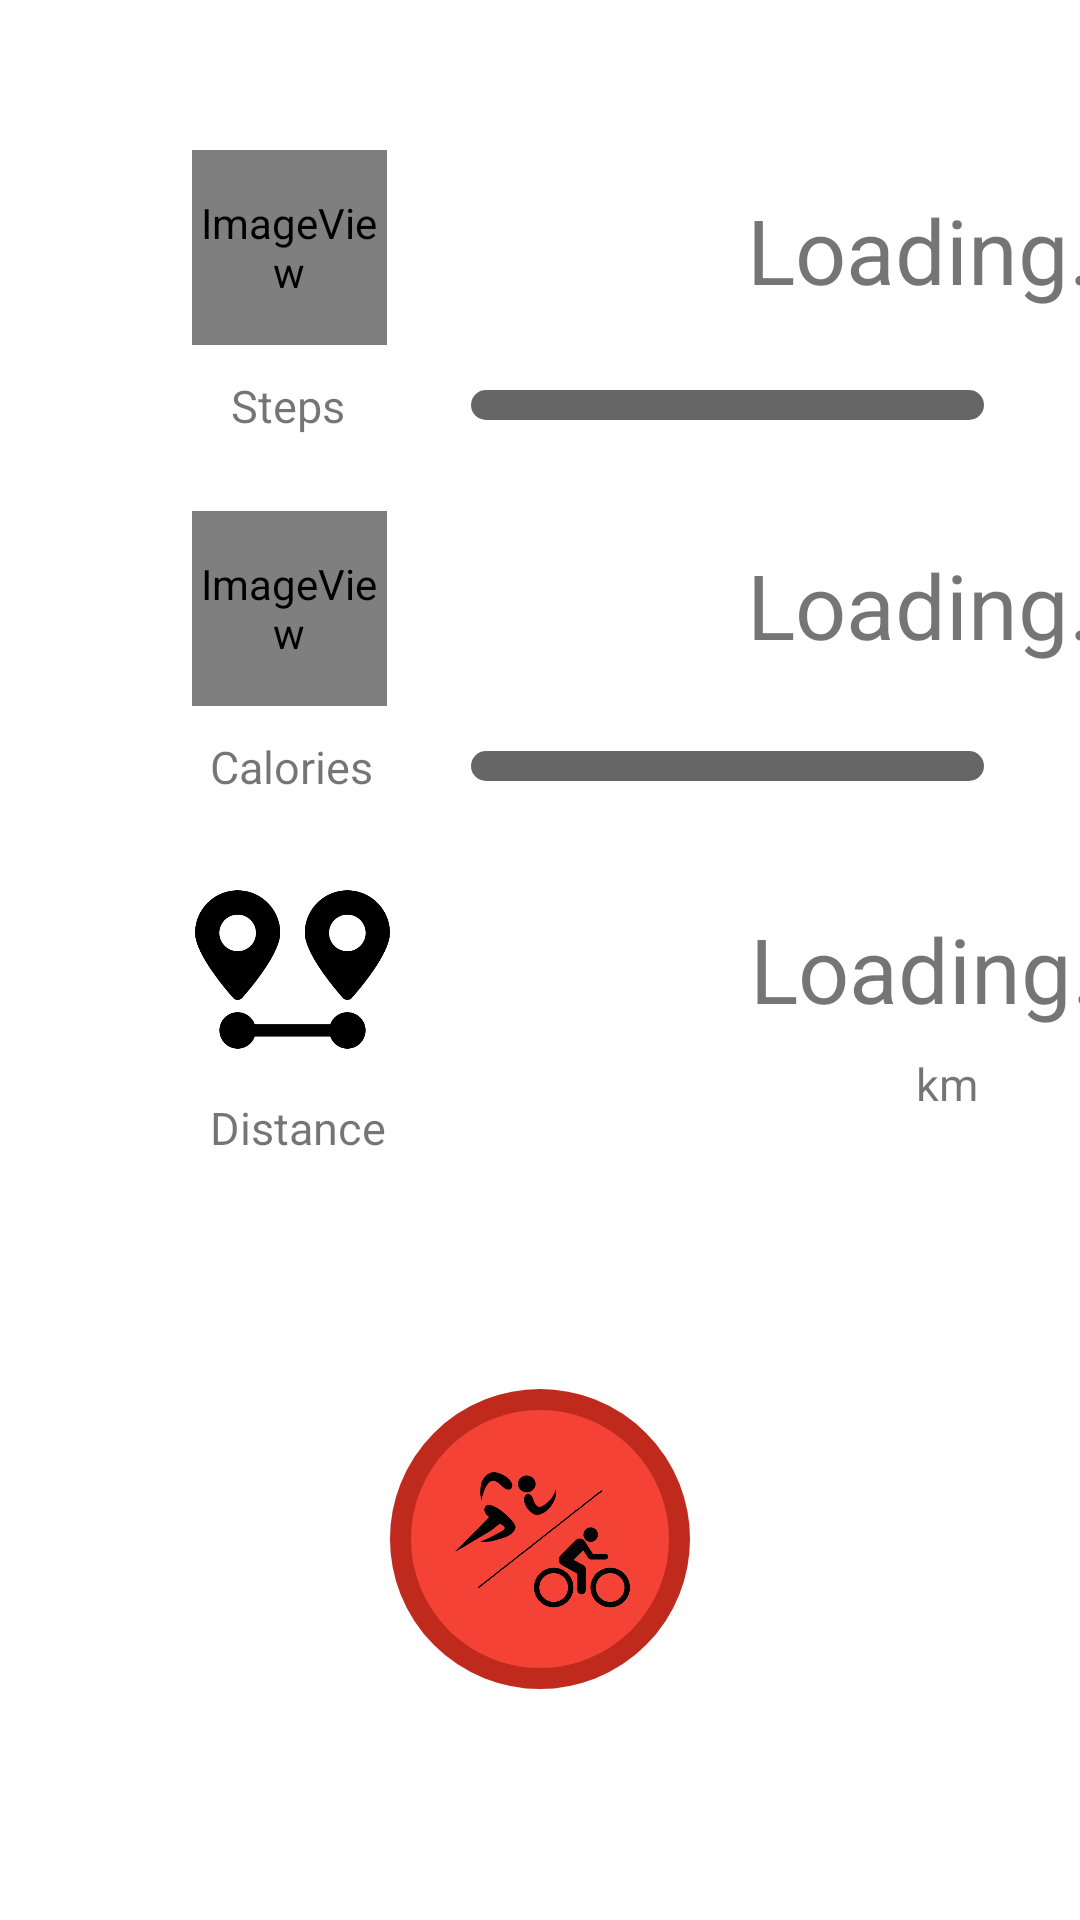

Icon bounding boxes for this 1080 x 1920 phone screenshot, format (x1, y1, x2, y2):
Start Session: (390, 1389, 690, 1689)
